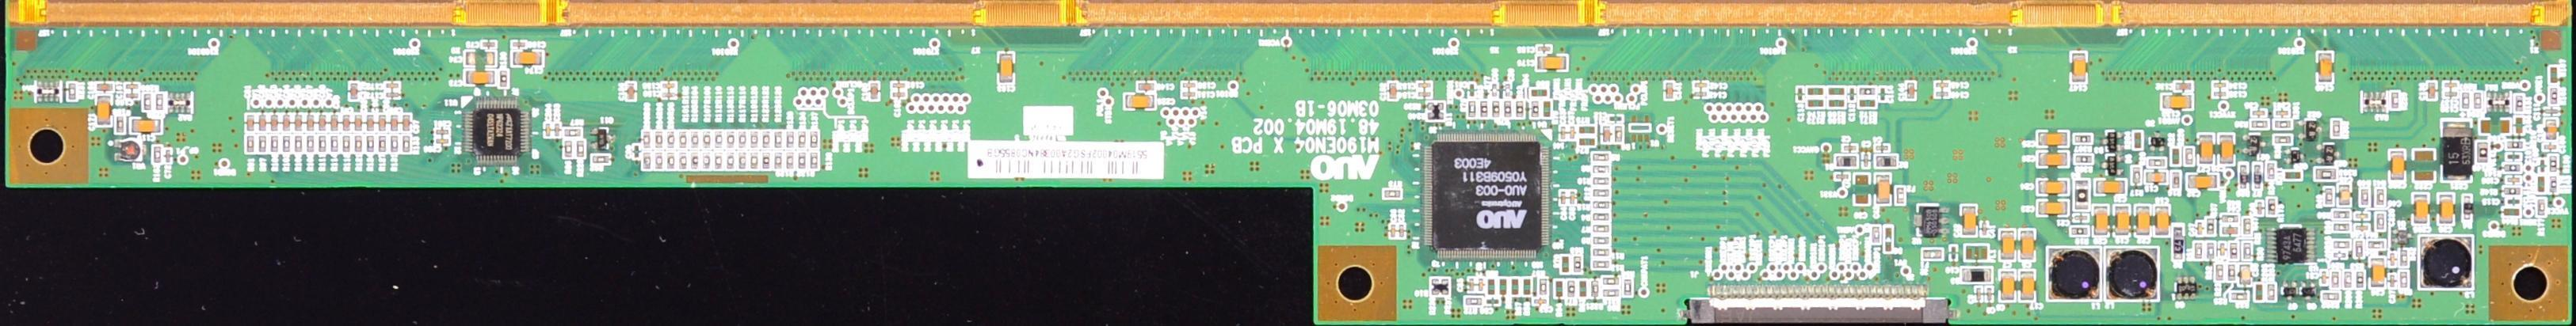Capacitor: (2387, 150, 2408, 189), (1873, 172, 1892, 208), (2316, 51, 2335, 88), (2070, 51, 2089, 86), (1536, 55, 1570, 74), (2036, 152, 2071, 171), (462, 49, 497, 67), (2037, 199, 2070, 218), (2412, 195, 2429, 231), (2113, 204, 2131, 237), (2369, 259, 2387, 291), (2036, 131, 2070, 148), (2093, 180, 2127, 196), (2019, 270, 2036, 305), (510, 51, 545, 67), (1998, 271, 2016, 301), (2439, 192, 2453, 232), (2135, 205, 2151, 237), (2021, 228, 2036, 261), (1999, 229, 2017, 263), (2198, 135, 2215, 164), (2218, 135, 2235, 165), (464, 71, 494, 86), (2161, 95, 2195, 110), (2093, 205, 2109, 237), (2155, 207, 2170, 240), (1960, 206, 1976, 235), (2036, 180, 2069, 194), (2187, 173, 2217, 186), (95, 95, 109, 125), (2543, 118, 2559, 142), (2338, 184, 2353, 207), (130, 120, 154, 132), (2144, 172, 2168, 184), (2174, 81, 2192, 93), (382, 78, 403, 89), (625, 81, 637, 103), (293, 113, 304, 132), (387, 116, 399, 133), (1690, 80, 1712, 89), (2426, 80, 2437, 101), (1665, 82, 1674, 103), (1906, 82, 1917, 100), (269, 114, 280, 132), (162, 149, 174, 167), (348, 82, 359, 102), (256, 114, 268, 131), (317, 115, 329, 131), (2544, 142, 2560, 152), (2442, 80, 2459, 90), (2442, 90, 2460, 100), (2250, 108, 2268, 118), (377, 113, 388, 131), (281, 114, 291, 132), (1602, 126, 1611, 145), (2504, 176, 2521, 184), (2221, 226, 2239, 237), (1465, 275, 1475, 294), (95, 83, 116, 92), (364, 113, 373, 132), (245, 115, 255, 131), (551, 119, 560, 139), (1567, 191, 1577, 206), (1388, 223, 1398, 240), (1475, 276, 1485, 293), (659, 81, 677, 90), (2211, 82, 2229, 89), (2353, 225, 2371, 233), (1984, 286, 1993, 305), (1694, 89, 1708, 99), (306, 116, 315, 131), (433, 136, 447, 146), (1861, 154, 1871, 169), (2257, 203, 2267, 218), (1936, 81, 1952, 89), (124, 82, 139, 90), (1880, 86, 1887, 103), (660, 92, 677, 100), (2274, 110, 2291, 119), (353, 114, 362, 131), (342, 115, 350, 131), (1842, 144, 1857, 152), (1399, 222, 1406, 240), (2218, 242, 2227, 260), (2388, 275, 2396, 291), (1975, 286, 1983, 303), (1795, 88, 1804, 102), (2356, 212, 2369, 221), (2196, 222, 2204, 236), (1490, 83, 1498, 98), (1503, 83, 1511, 98), (125, 93, 139, 101), (331, 115, 340, 129), (544, 124, 552, 138), (1568, 126, 1576, 141), (513, 40, 528, 49), (402, 114, 409, 133), (1560, 189, 1567, 206), (1937, 90, 1950, 98), (2212, 91, 2230, 99), (383, 93, 399, 100), (436, 128, 449, 136), (1874, 145, 1891, 151), (1834, 173, 1849, 180), (2074, 214, 2088, 222), (1849, 87, 1856, 101), (1561, 124, 1568, 139), (1533, 298, 1548, 305), (481, 40, 496, 48), (2390, 252, 2395, 268)
IC: (1423, 132, 1551, 259), (462, 98, 531, 169), (2266, 227, 2314, 264), (1918, 204, 1949, 239)
Resistor: (998, 52, 1016, 85), (1124, 93, 1154, 111), (2314, 168, 2337, 182), (868, 81, 880, 104), (769, 152, 785, 170), (63, 82, 77, 103), (2322, 187, 2335, 207), (2536, 198, 2547, 219), (722, 154, 737, 170), (574, 142, 586, 160), (498, 69, 509, 90), (114, 116, 126, 135), (2359, 187, 2372, 205), (2473, 91, 2483, 112), (700, 151, 711, 171), (2355, 241, 2365, 260), (807, 131, 819, 147), (303, 136, 317, 153), (2131, 165, 2141, 187), (1590, 213, 1611, 222), (2332, 240, 2353, 248), (1387, 82, 1398, 100), (891, 90, 909, 101), (2547, 86, 2559, 105), (2330, 120, 2341, 138), (663, 132, 676, 150), (398, 135, 409, 153), (256, 135, 267, 154), (244, 136, 256, 154), (808, 152, 819, 171), (2546, 154, 2558, 172), (1590, 164, 1609, 175), (2245, 218, 2255, 237), (2230, 242, 2241, 261), (1414, 82, 1434, 92), (2460, 92, 2471, 112), (2273, 119, 2292, 130), (2250, 120, 2271, 130), (563, 127, 582, 138), (2074, 135, 2093, 145), (364, 134, 375, 154), (316, 138, 328, 152), (563, 140, 574, 158), (591, 154, 612, 165), (747, 154, 760, 169), (2147, 157, 2166, 168), (1383, 190, 1402, 199), (2376, 188, 2385, 208), (2266, 202, 2278, 216), (2220, 214, 2238, 223), (2376, 211, 2386, 231), (2365, 241, 2385, 251), (2242, 243, 2253, 262), (1807, 97, 1823, 108), (654, 132, 665, 150), (700, 132, 712, 150), (389, 136, 401, 152), (376, 135, 387, 153), (677, 152, 688, 169), (735, 154, 747, 171), (713, 156, 724, 172), (1593, 188, 1610, 198), (1603, 289, 1620, 299), (641, 131, 651, 149), (353, 135, 364, 153), (269, 136, 280, 154), (1592, 152, 1609, 162), (666, 153, 676, 170), (1593, 175, 1609, 184), (2333, 209, 2350, 219), (1594, 261, 1611, 271), (2355, 271, 2364, 290), (2266, 283, 2276, 301), (2505, 142, 2526, 150), (2171, 170, 2181, 192), (2401, 249, 2408, 270), (676, 134, 689, 148), (725, 133, 735, 148), (292, 137, 303, 153), (796, 153, 807, 167), (758, 154, 770, 169), (1136, 82, 1153, 91), (1415, 90, 1433, 99), (2391, 92, 2400, 108), (2517, 94, 2525, 112), (1860, 100, 1876, 109), (342, 137, 352, 154), (281, 138, 292, 154), (2185, 149, 2195, 166), (2074, 155, 2093, 165), (2334, 223, 2349, 233), (1591, 237, 1609, 245), (1572, 256, 1582, 272), (2331, 271, 2341, 289), (1603, 277, 1620, 286), (2400, 273, 2410, 290), (1624, 278, 1633, 294), (2231, 292, 2247, 301), (1466, 297, 1483, 306), (747, 134, 758, 148), (156, 95, 164, 112), (330, 135, 339, 153), (152, 146, 162, 164), (1593, 201, 1610, 210), (2206, 219, 2214, 237), (1593, 249, 1609, 258), (1567, 279, 1576, 297), (712, 132, 722, 148), (796, 132, 805, 147), (2503, 188, 2518, 196), (2192, 244, 2204, 259), (2215, 265, 2225, 280), (890, 80, 907, 89), (1181, 90, 1198, 98), (143, 93, 151, 110), (689, 132, 699, 149), (2503, 164, 2520, 172), (1593, 225, 1610, 233), (2206, 243, 2214, 260), (2227, 265, 2236, 282), (2344, 271, 2353, 288), (2322, 293, 2338, 301), (785, 155, 795, 169), (689, 155, 699, 170), (1590, 282, 1598, 297), (1181, 82, 1199, 89), (2071, 229, 2089, 237), (762, 135, 773, 147), (1806, 87, 1822, 94), (1826, 100, 1843, 107), (787, 131, 794, 148), (738, 134, 746, 147), (654, 152, 661, 169), (2550, 175, 2557, 191), (643, 152, 651, 168), (1540, 279, 1547, 295), (1830, 89, 1843, 96), (773, 134, 780, 147), (170, 153, 170, 154)
Transistor: (2173, 275, 2198, 302), (590, 127, 613, 150), (2101, 130, 2122, 153), (2302, 119, 2323, 140), (2245, 134, 2266, 155), (2316, 144, 2341, 162), (2101, 154, 2120, 173), (2300, 282, 2318, 303), (2148, 129, 2165, 152), (2285, 148, 2304, 164), (2281, 282, 2297, 304)
